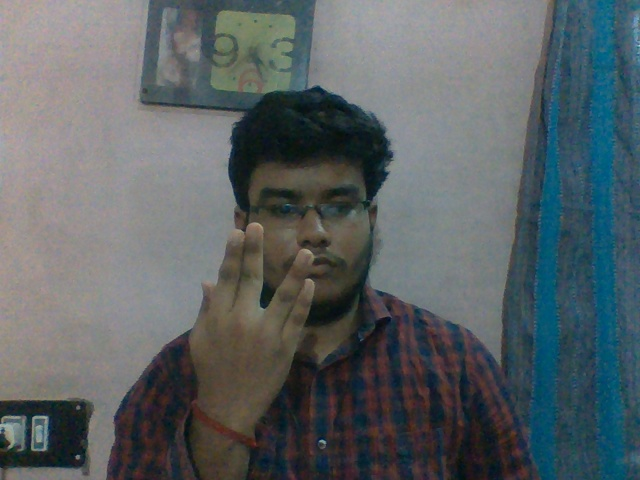LiveLong: (189, 221, 319, 439)
